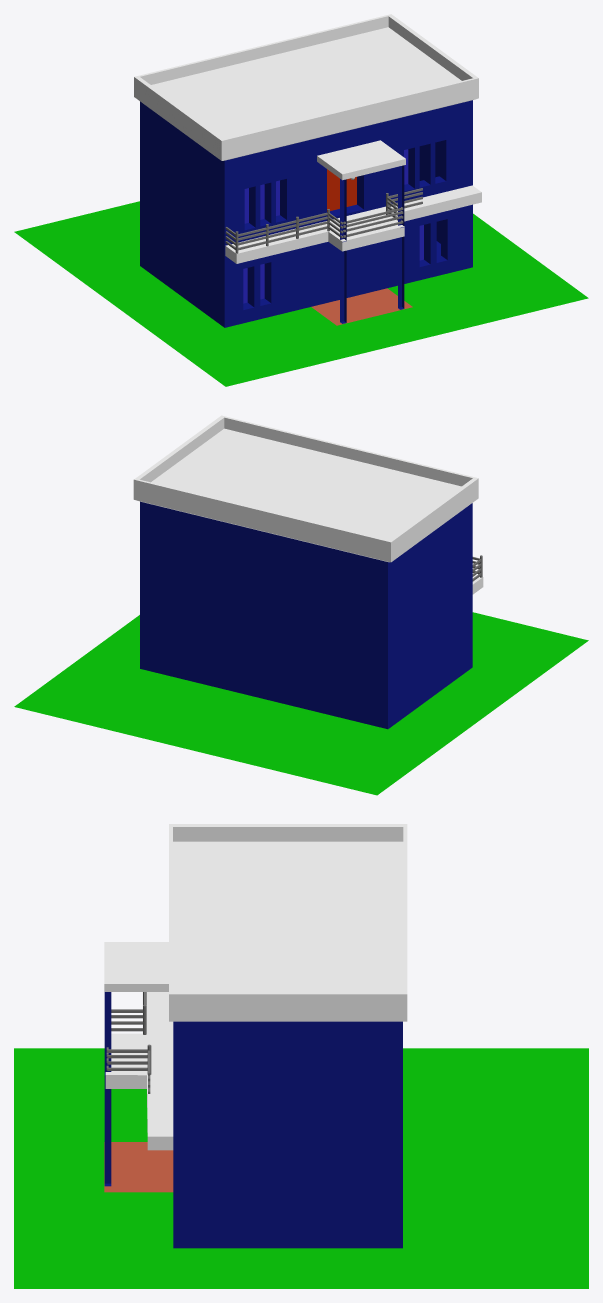
File: house2_blue.obj
3 views of the same model, one above another, from view 1: azimuth 30°, elevation 25°; view 2: azimuth 150°, elevation 25°; view 3: azimuth 270°, elevation 25° (orthographic). The views are drawn at different scales.
Visible parts, largest first — view 1: Cube.166_Cube.256, Plane.033_Plane.034, Cube.104_Cube.195, Cube.154_Cube.244, Cube.165_Cube.255, Cube.102_Cube.193, Cube.100_Cube.191, Cube.101_Cube.192; view 2: Cube.166_Cube.256, Plane.033_Plane.034; view 3: Cube.166_Cube.256, Plane.033_Plane.034, Cube.104_Cube.195, Cube.154_Cube.244, Cube.101_Cube.192.
Part boxes in pixels (x1,y1,x2,y2): Cube.166_Cube.256: (134, 14, 478, 327); Plane.033_Plane.034: (14, 201, 588, 386); Cube.104_Cube.195: (225, 185, 481, 263); Cube.154_Cube.244: (311, 288, 412, 325); Cube.165_Cube.255: (327, 169, 356, 211); Cube.102_Cube.193: (340, 165, 404, 242); Cube.100_Cube.191: (340, 250, 346, 323); Cube.101_Cube.192: (398, 236, 404, 309); Cube.166_Cube.256: (133, 415, 478, 729); Plane.033_Plane.034: (14, 612, 588, 795); Cube.166_Cube.256: (104, 824, 407, 1248); Plane.033_Plane.034: (14, 1048, 588, 1288); Cube.104_Cube.195: (105, 992, 173, 1150); Cube.154_Cube.244: (104, 1142, 173, 1192); Cube.101_Cube.192: (104, 1086, 111, 1186).
Bounding box in the file's own units: 21.52 × 10.82 × 21.73.
